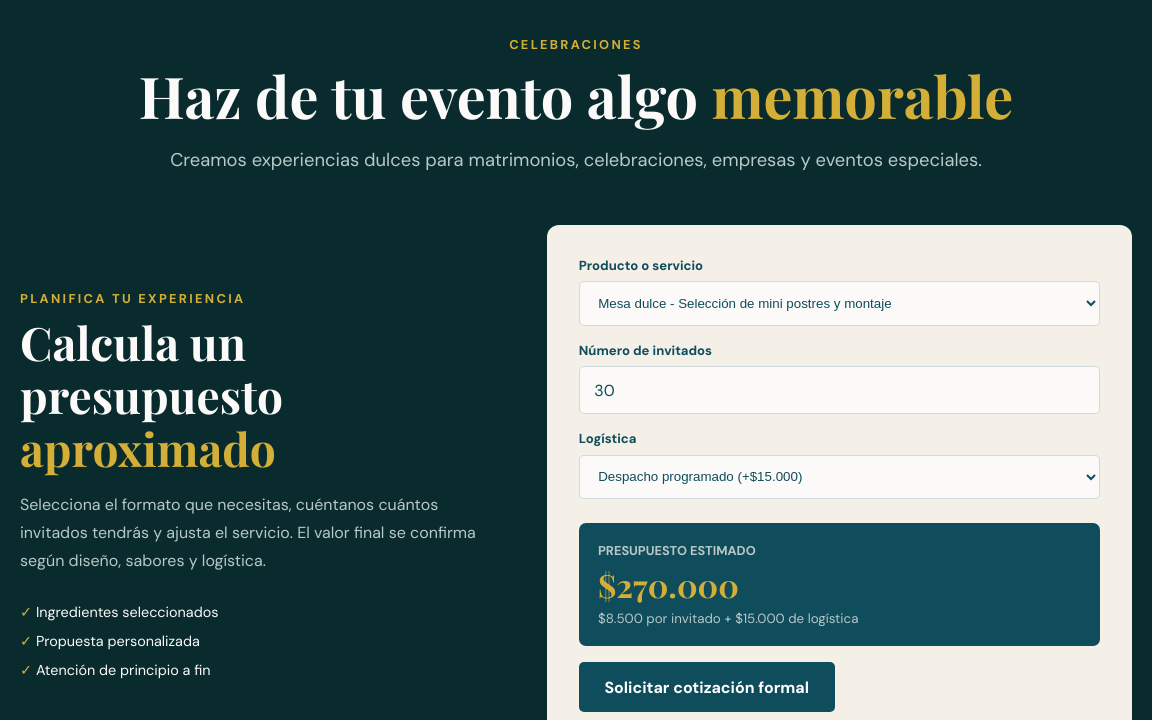
Test: Página de Eventos y Calculadora › permite cambiar el tipo de servicio de logística
Select "Retiro en tienda" in the dropdown labelled "Logística" at (839, 477), box [579,454,1100,499]
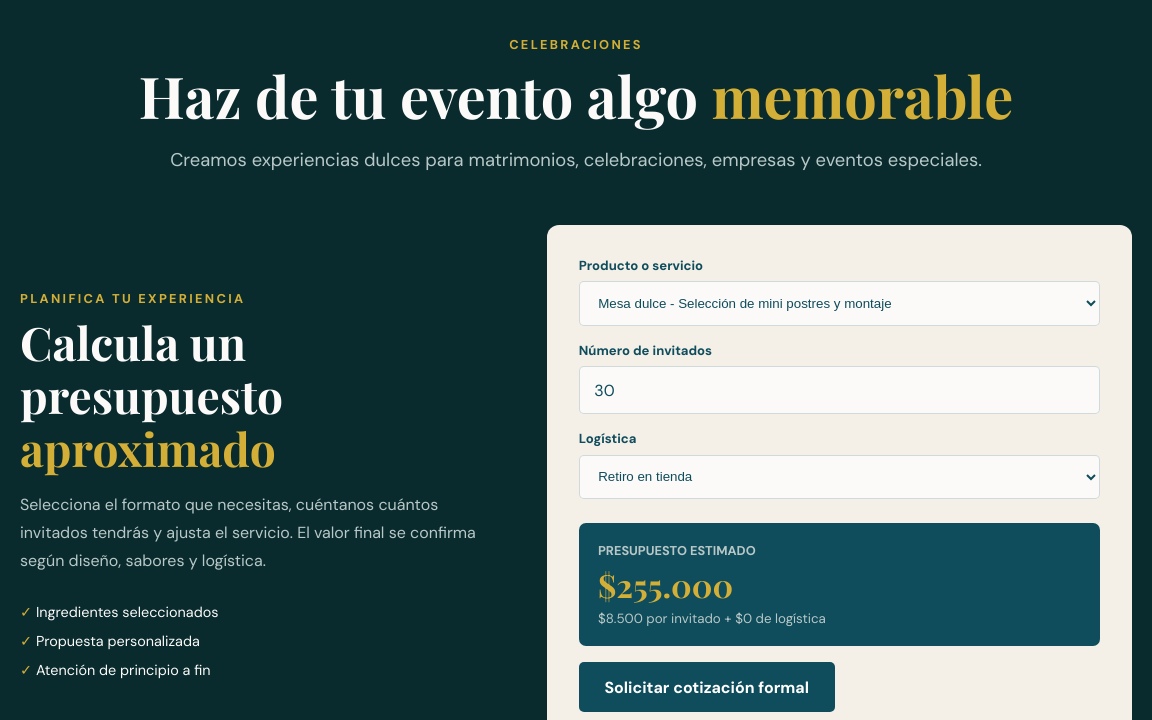
Result: the text "$255.000" is shown at [598,563,733,606]
